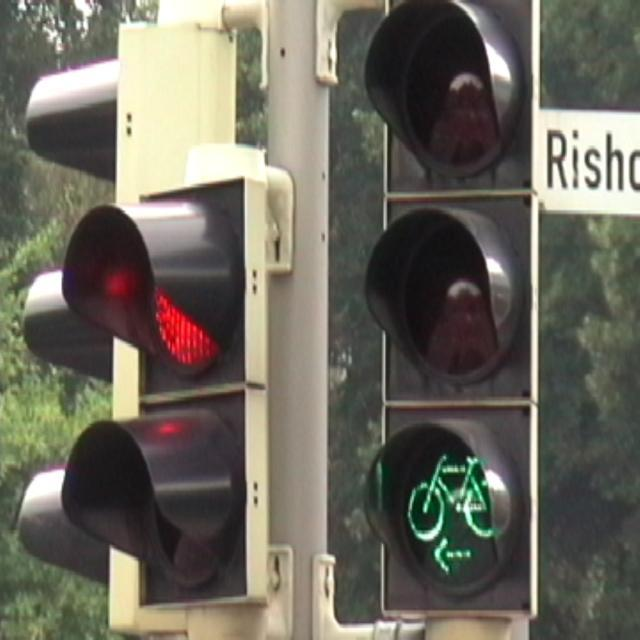off traffic light: (15, 23, 239, 639)
traffic light: (363, 0, 541, 623), (61, 180, 268, 606)
